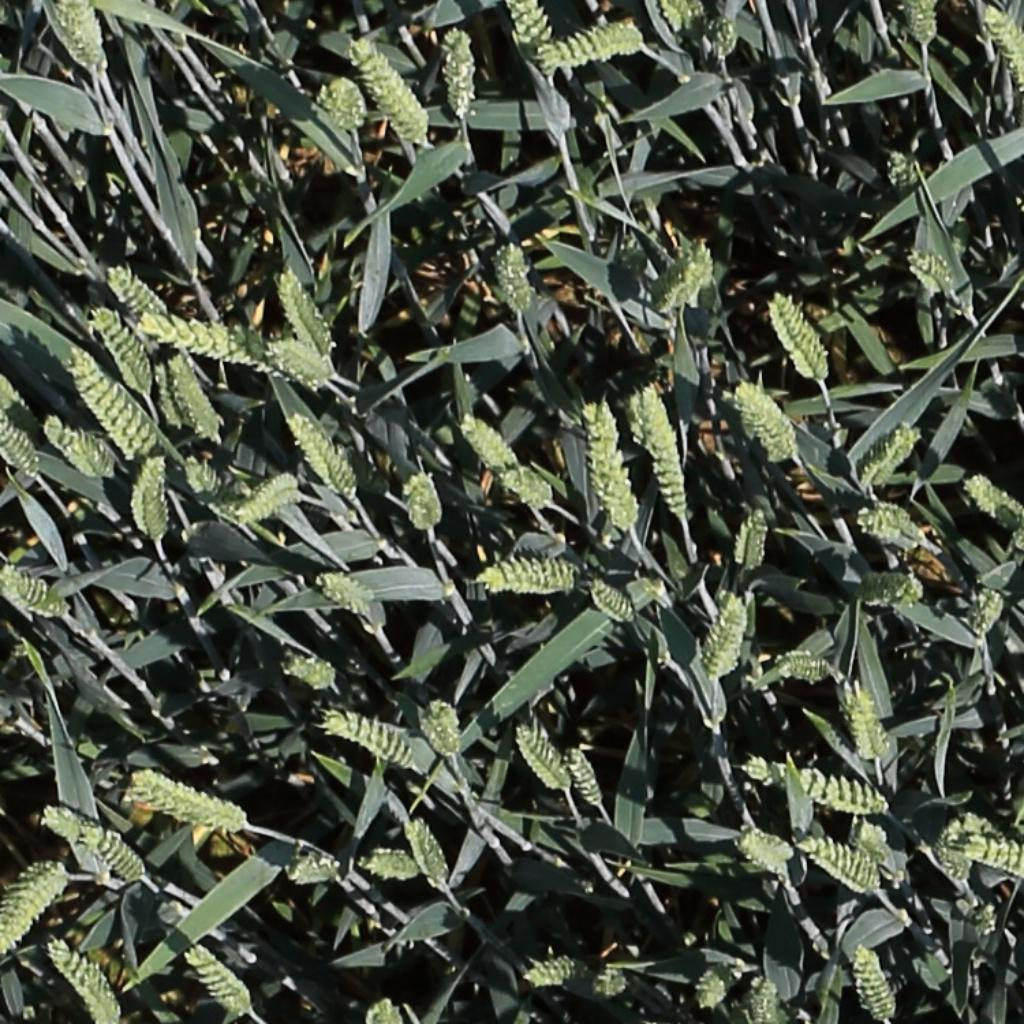0-0: (66, 342, 159, 462), (736, 750, 891, 818), (349, 35, 432, 146), (285, 408, 357, 499), (46, 935, 121, 1022), (644, 379, 690, 520), (139, 315, 271, 364), (133, 775, 248, 831), (88, 303, 155, 397), (317, 704, 416, 767), (587, 401, 633, 533), (275, 263, 337, 360), (770, 288, 832, 385), (0, 864, 66, 954), (179, 350, 236, 452), (184, 942, 256, 1019), (497, 0, 561, 83), (797, 829, 882, 891), (737, 380, 800, 461), (933, 810, 1002, 882), (473, 551, 581, 596), (75, 821, 148, 886), (513, 722, 574, 798), (42, 415, 113, 479), (106, 260, 172, 328), (861, 421, 925, 490), (704, 589, 749, 685), (404, 813, 454, 898), (457, 408, 520, 475), (129, 450, 172, 547), (268, 339, 337, 398), (658, 247, 716, 316), (981, 2, 1024, 95), (853, 937, 899, 1022), (551, 27, 644, 66), (437, 27, 475, 122), (562, 742, 610, 817), (729, 824, 795, 877), (851, 682, 890, 768), (0, 570, 68, 619), (234, 476, 300, 525), (280, 838, 342, 890), (66, 1, 109, 75), (54, 2, 98, 73), (729, 502, 772, 573), (0, 405, 40, 480), (151, 354, 188, 434), (958, 837, 1024, 881), (421, 697, 464, 763), (499, 236, 532, 319), (0, 363, 38, 434), (518, 949, 580, 991), (966, 473, 1019, 522), (589, 576, 638, 628), (316, 574, 375, 617), (354, 845, 424, 880), (408, 466, 443, 535), (969, 580, 1004, 645), (327, 72, 367, 128), (858, 509, 929, 540), (501, 468, 555, 506), (909, 248, 955, 292), (276, 654, 335, 685), (887, 139, 916, 202), (772, 654, 838, 679), (860, 578, 922, 604), (39, 809, 86, 843), (660, 0, 699, 39), (714, 10, 741, 66), (914, 0, 939, 54), (756, 970, 780, 1024), (365, 989, 400, 1024)
